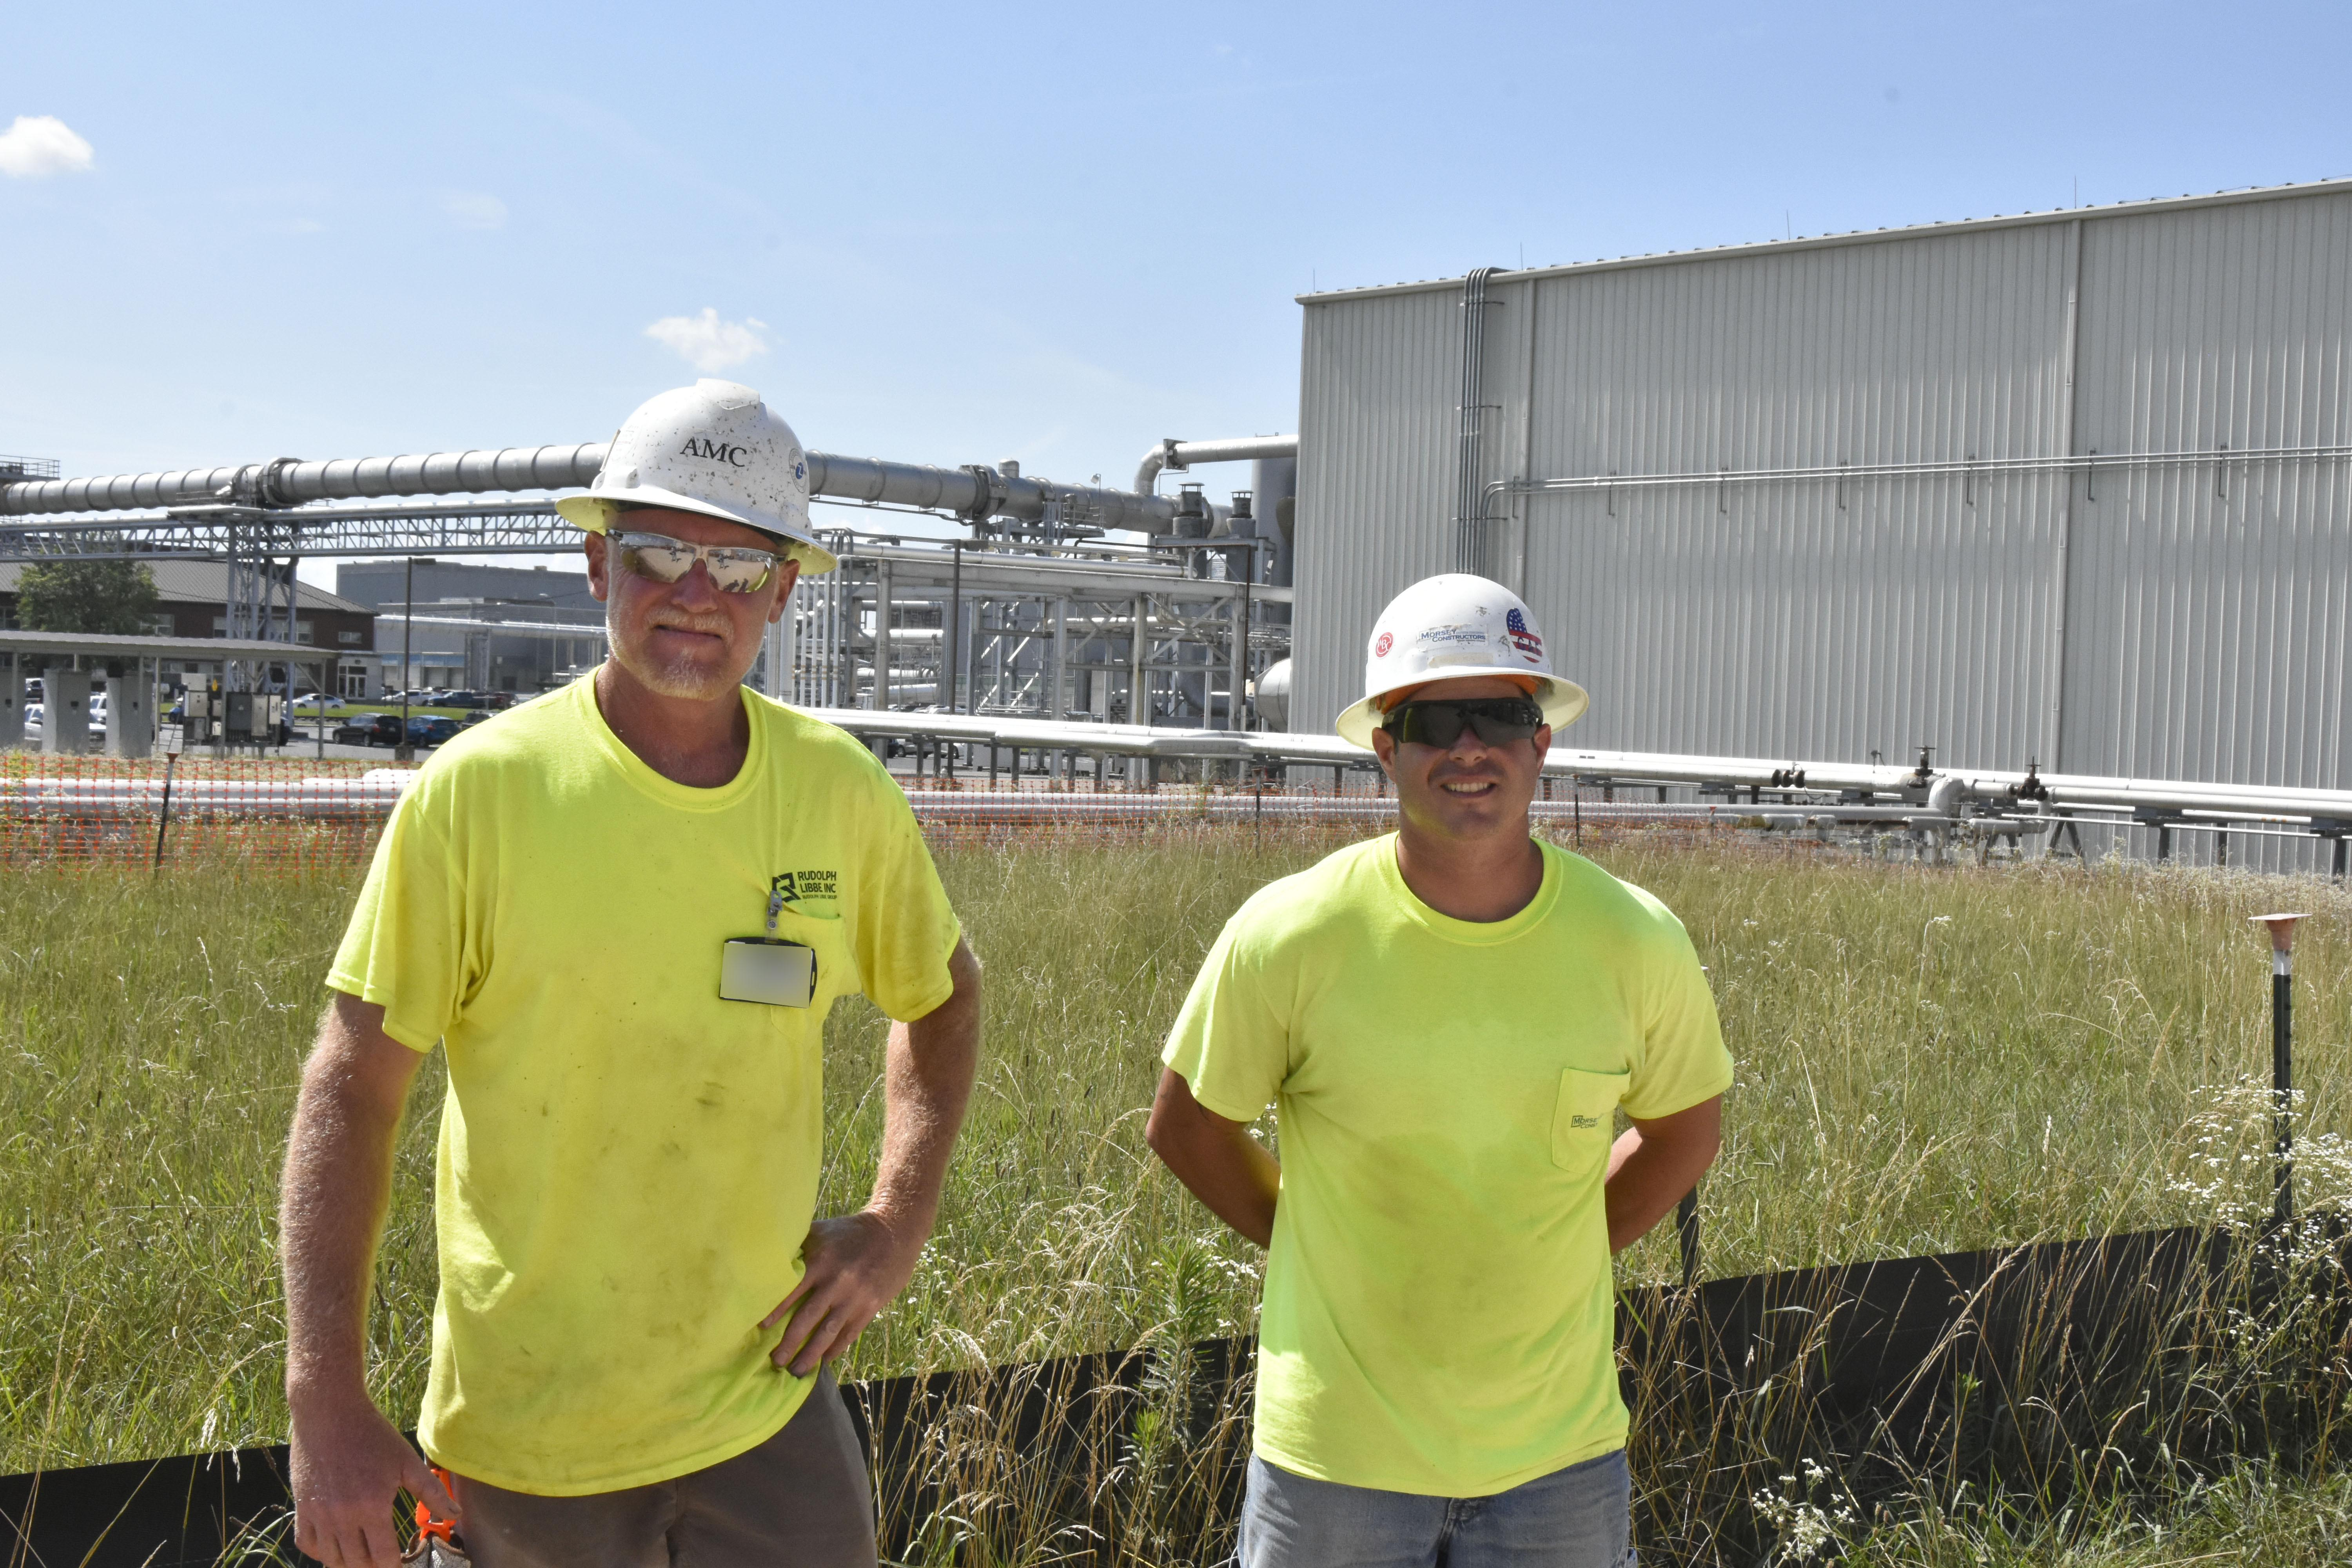helmet: (556, 374, 840, 586), (1333, 574, 1587, 744)
